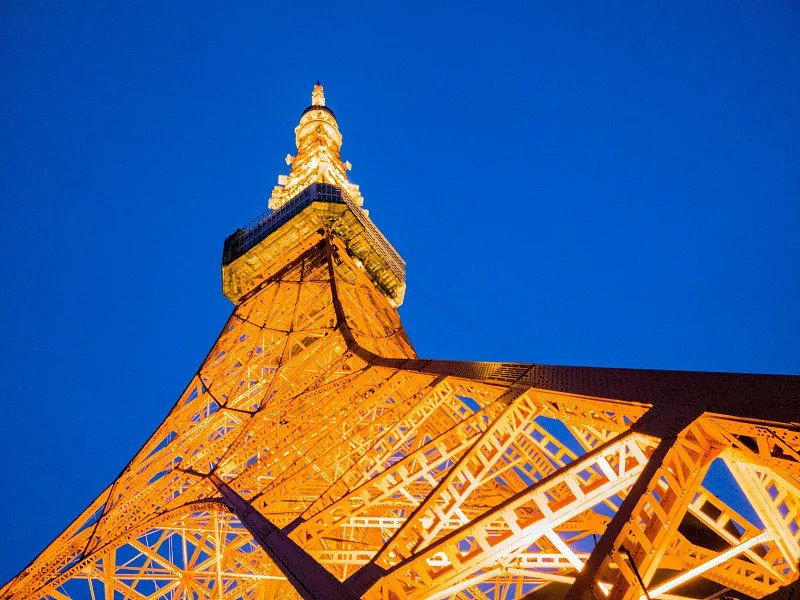Tokyo: (1, 78, 800, 600)
